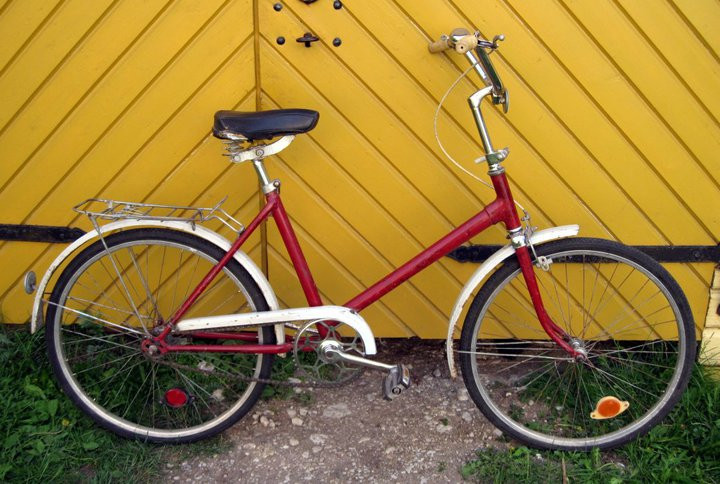bicycle: (23, 24, 699, 457)
